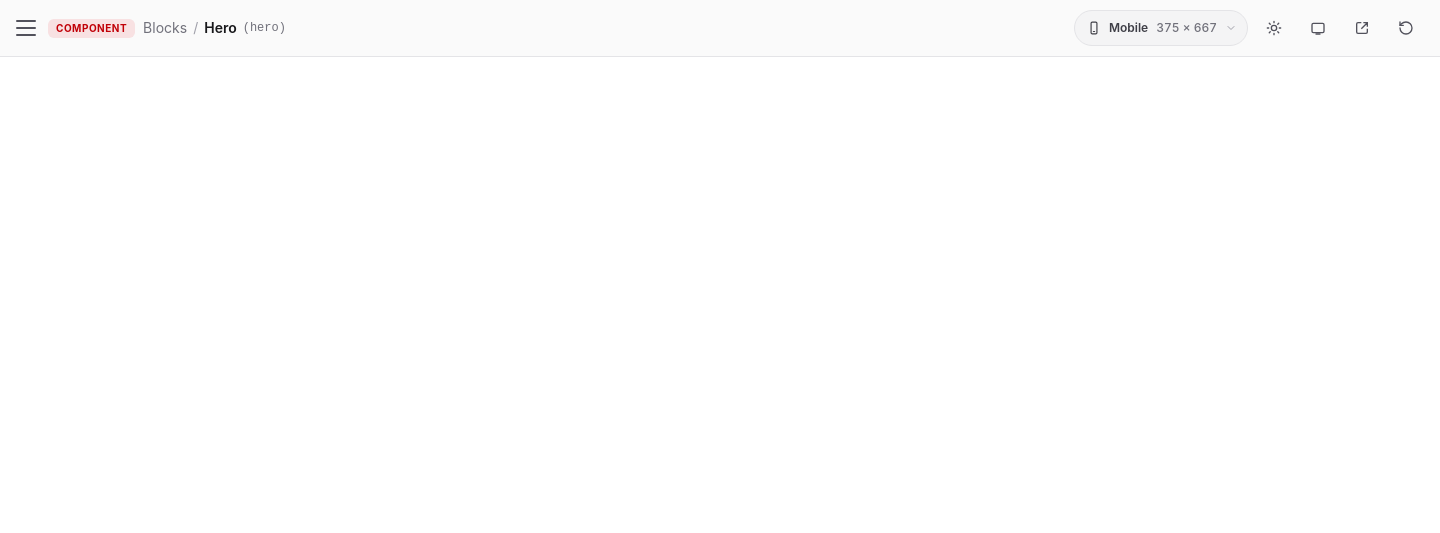
Test: ViewportToolbar — width checklist › closes when the focus leaves the popover
Click the button with test id "viewport-trigger" at (1161, 28), box [1074,10,1248,46]
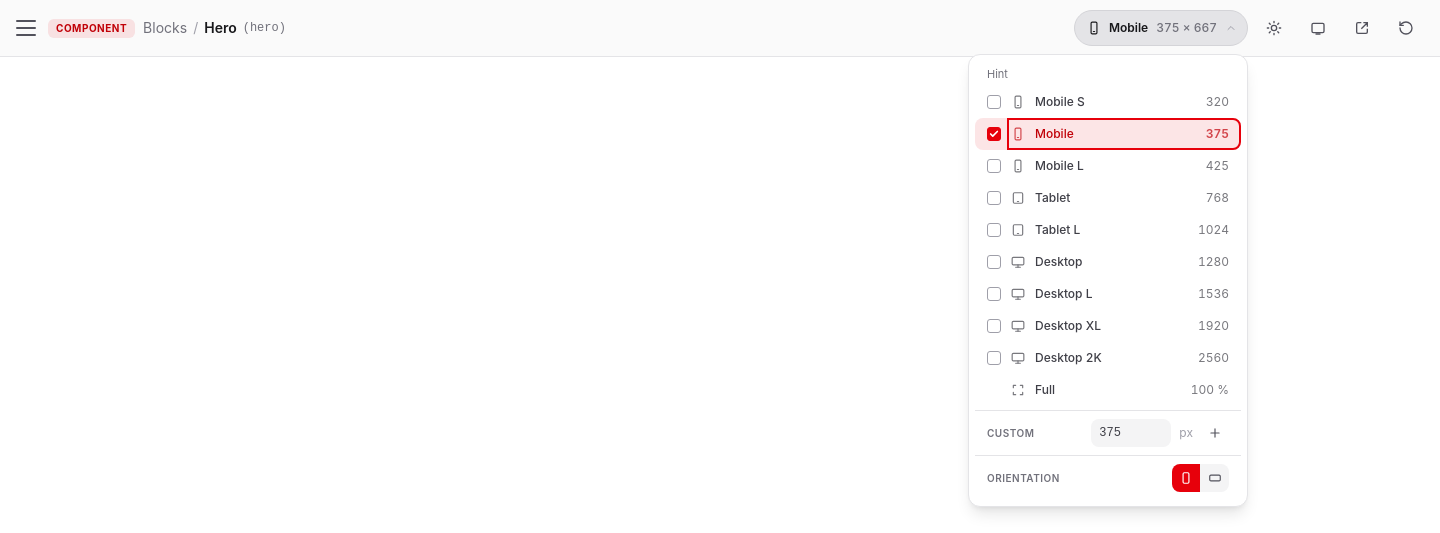
Leave the number field with test id "custom-width-input", box [1091,419,1171,447]
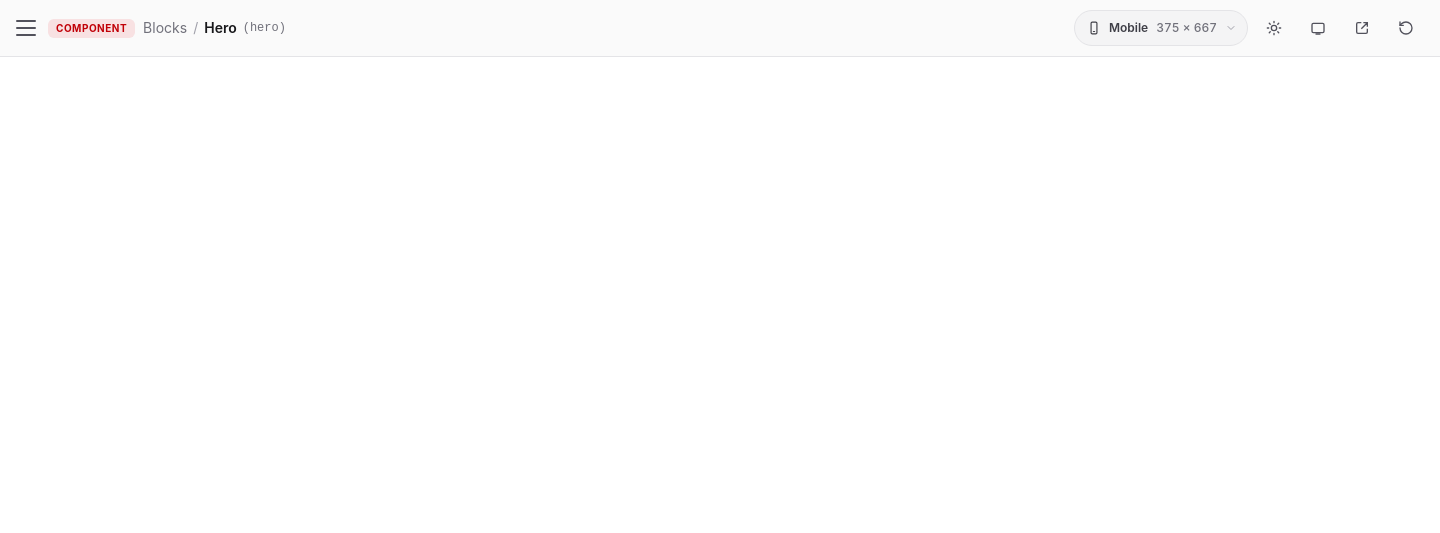
expect the element with test id "viewport-menu" is gone: met
